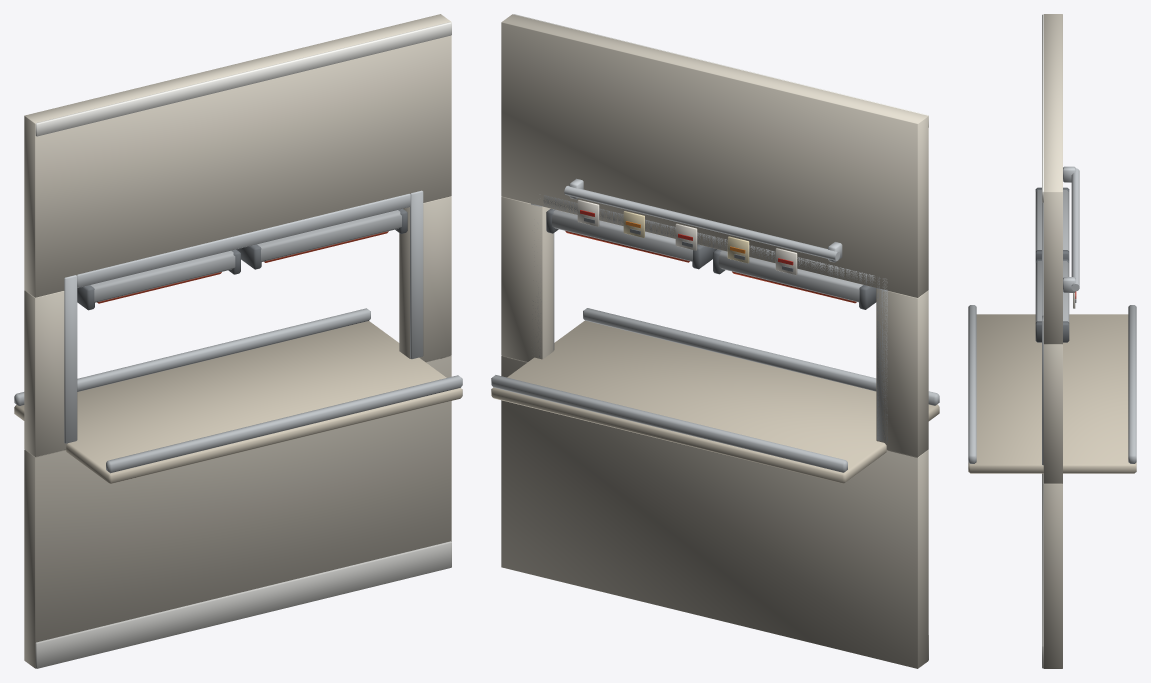
File: SM_Wall_PassWindow_Heat_2m.glb
3 renders of one model, left to right at view 1: azimuth 30°, elevation 25°; view 2: azimuth 150°, elevation 25°; view 3: azimuth 270°, elevation 25°, orthographic. The views are drawn at different scales.
Visible parts, largest first — view 1: SM_Wall_PassWindow_Heat_2m; view 2: SM_Wall_PassWindow_Heat_2m; view 3: SM_Wall_PassWindow_Heat_2m.
Part boxes in pixels (left/top/right/bottom): SM_Wall_PassWindow_Heat_2m: left=14, top=14, right=462, bottom=668; SM_Wall_PassWindow_Heat_2m: left=491, top=14, right=939, bottom=668; SM_Wall_PassWindow_Heat_2m: left=968, top=14, right=1136, bottom=668.
Size of the model in its own units: 2 by 2.5 by 0.8.
1 material, 1 textured.
